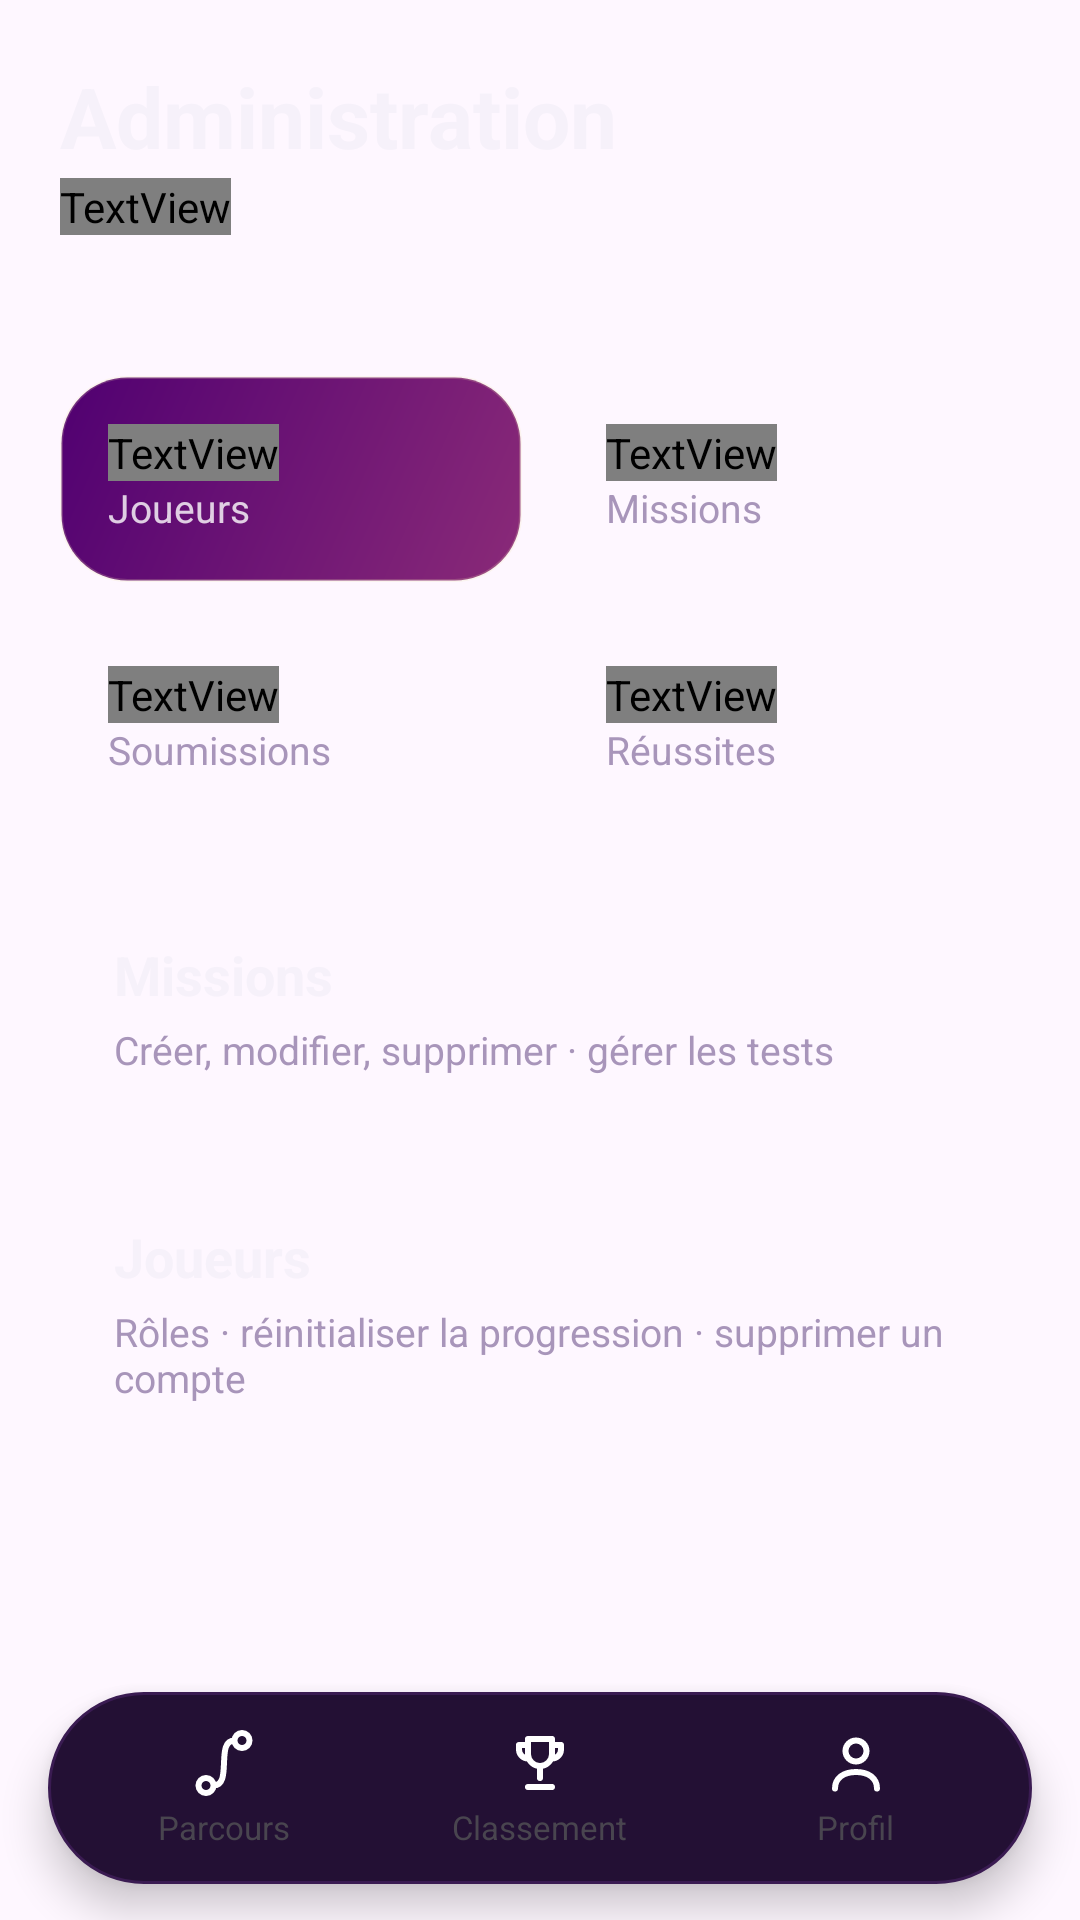

Named icons in this screenshot (1080w x 1920h) and their bounding boxes, (x1, y1, x2, y2):
trophy: (516, 1736, 564, 1790)
